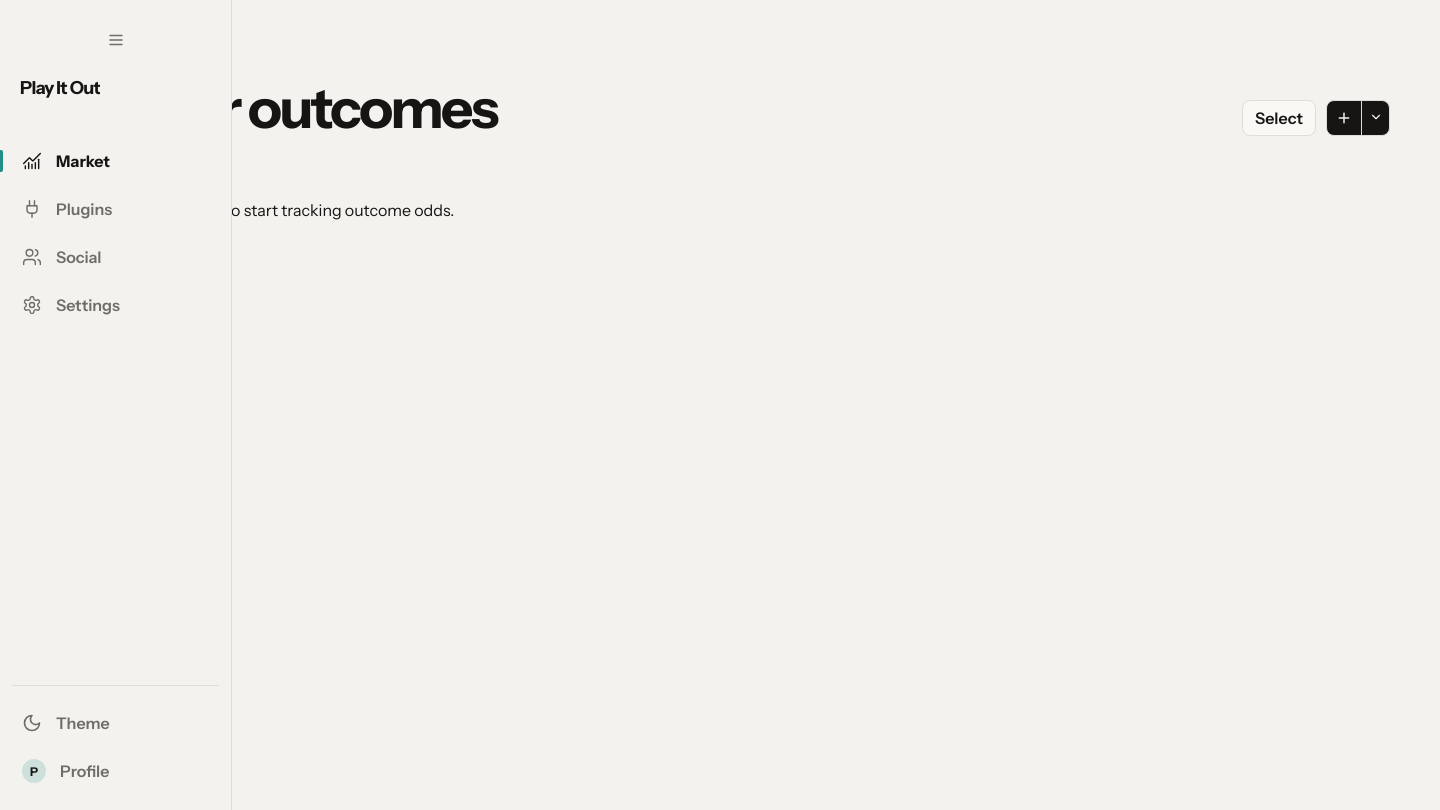
Test: Social is honest about unavailable sharing and does not invent probability movements
Check: the heading "Your outcomes" is shown, box [126,80,497,136]
Click the button "Social".
click(116, 257)  # box [12,234,219,280]
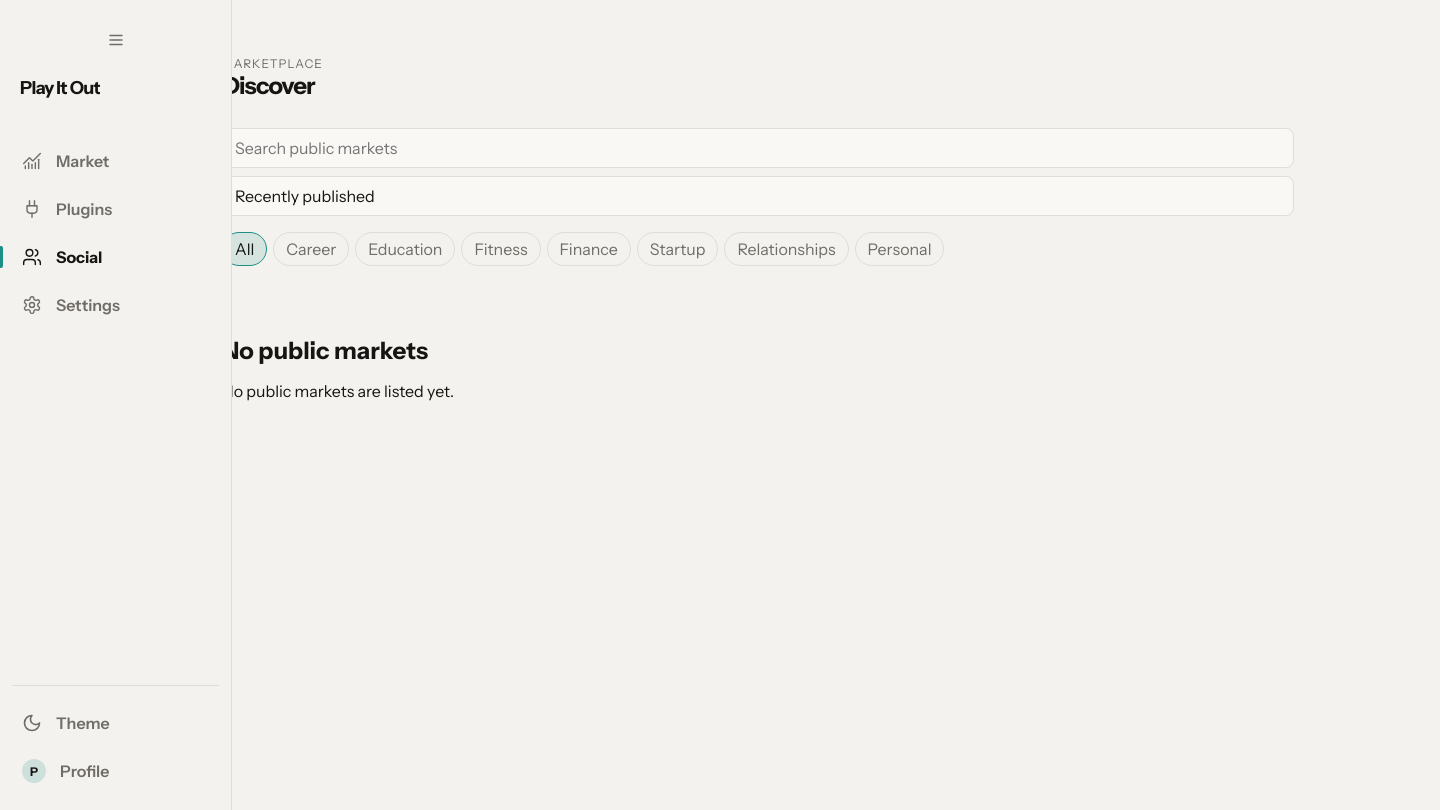
Check: the heading "No public markets" is shown, box [222,336,428,365]
